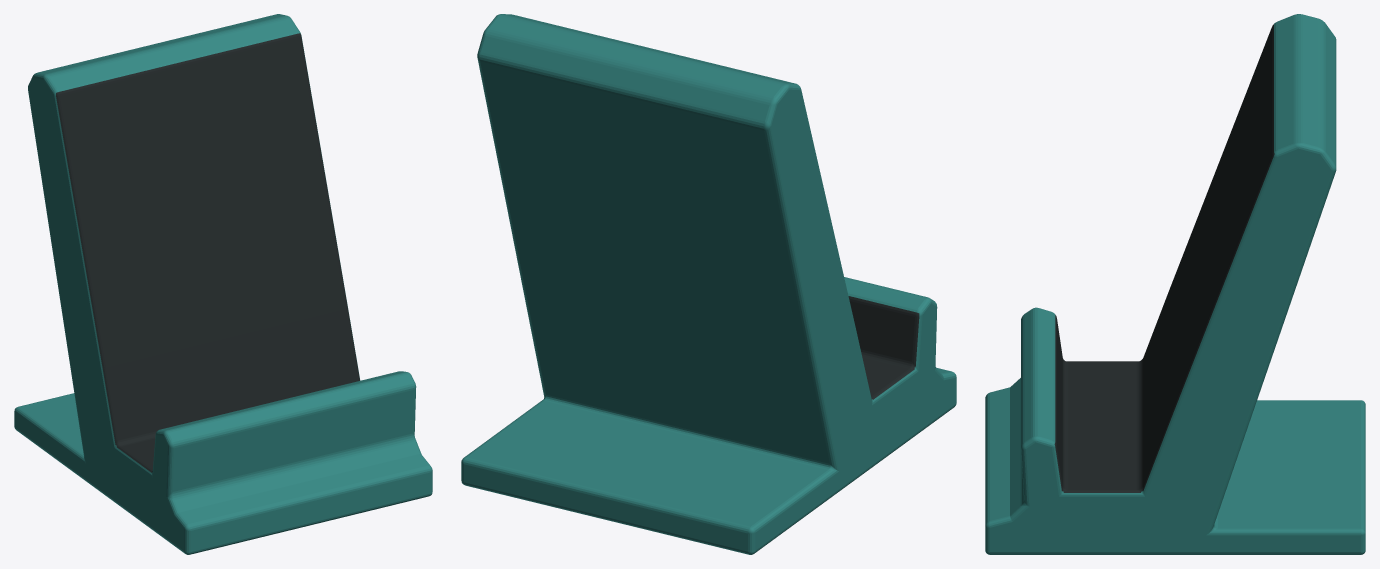
Rendered from desk-stand.glb.
3 views of the same model, side by side, from view 1: azimuth 30°, elevation 25°; view 2: azimuth 150°, elevation 25°; view 3: azimuth 270°, elevation 25° (orthographic). The views are drawn at different scales.
Visible parts, largest first — view 1: Desk Stand; view 2: Desk Stand; view 3: Desk Stand.
Boxes of the visible parts, x1,y1,x2,y2 form: Desk Stand: (14, 14, 432, 554); Desk Stand: (461, 14, 956, 554); Desk Stand: (985, 14, 1365, 554).
Bounding box in the file's own units: 0.088 × 0.1277 × 0.107.
